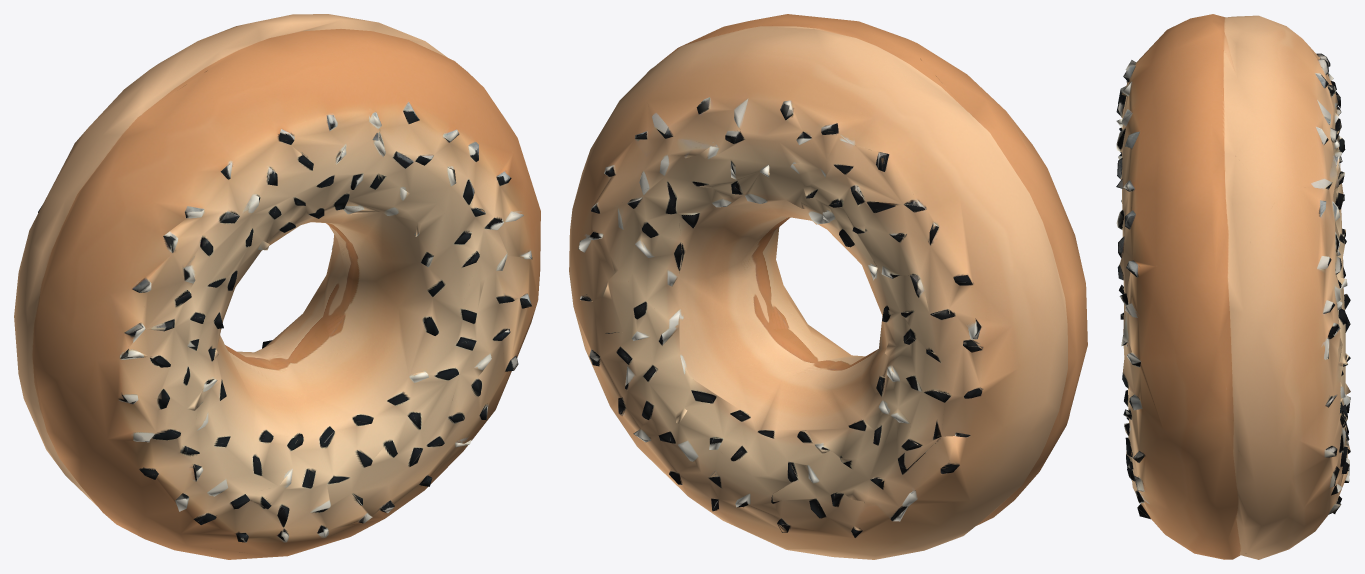
Rendered from ring_sesame_game.glb.
The picture shows the model from 3 angles, left to right: view 1: azimuth 30°, elevation 25°; view 2: azimuth 150°, elevation 25°; view 3: azimuth 270°, elevation 25°; orthographic projection. The views are drawn at different scales.
Parts seen in each view (by area): view 1: Mesh_0; view 2: Mesh_0; view 3: Mesh_0.
Boxes of the visible parts, left/top/right/bottom form: Mesh_0: left=14, top=14, right=540, bottom=559; Mesh_0: left=569, top=14, right=1087, bottom=559; Mesh_0: left=1116, top=14, right=1350, bottom=559.
Bounding box in the file's own units: 3.09 × 3.09 × 1.32.
1 material, 1 textured.
